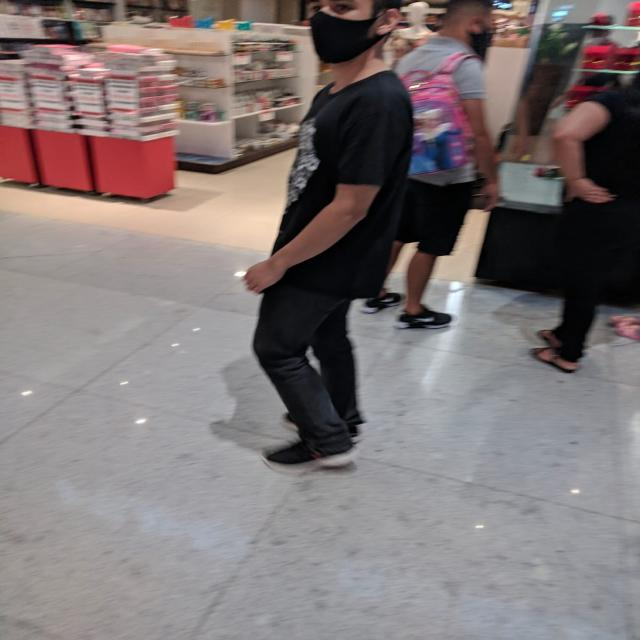em_pe: (243, 0, 414, 465)
